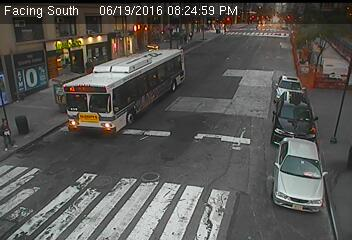neg: (173, 36, 202, 74), (268, 71, 292, 103)
